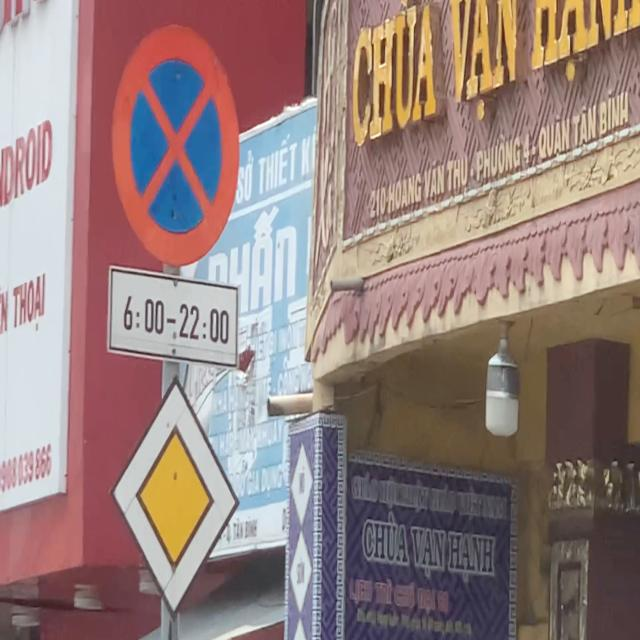Cam dung va do: (107, 18, 242, 263)
